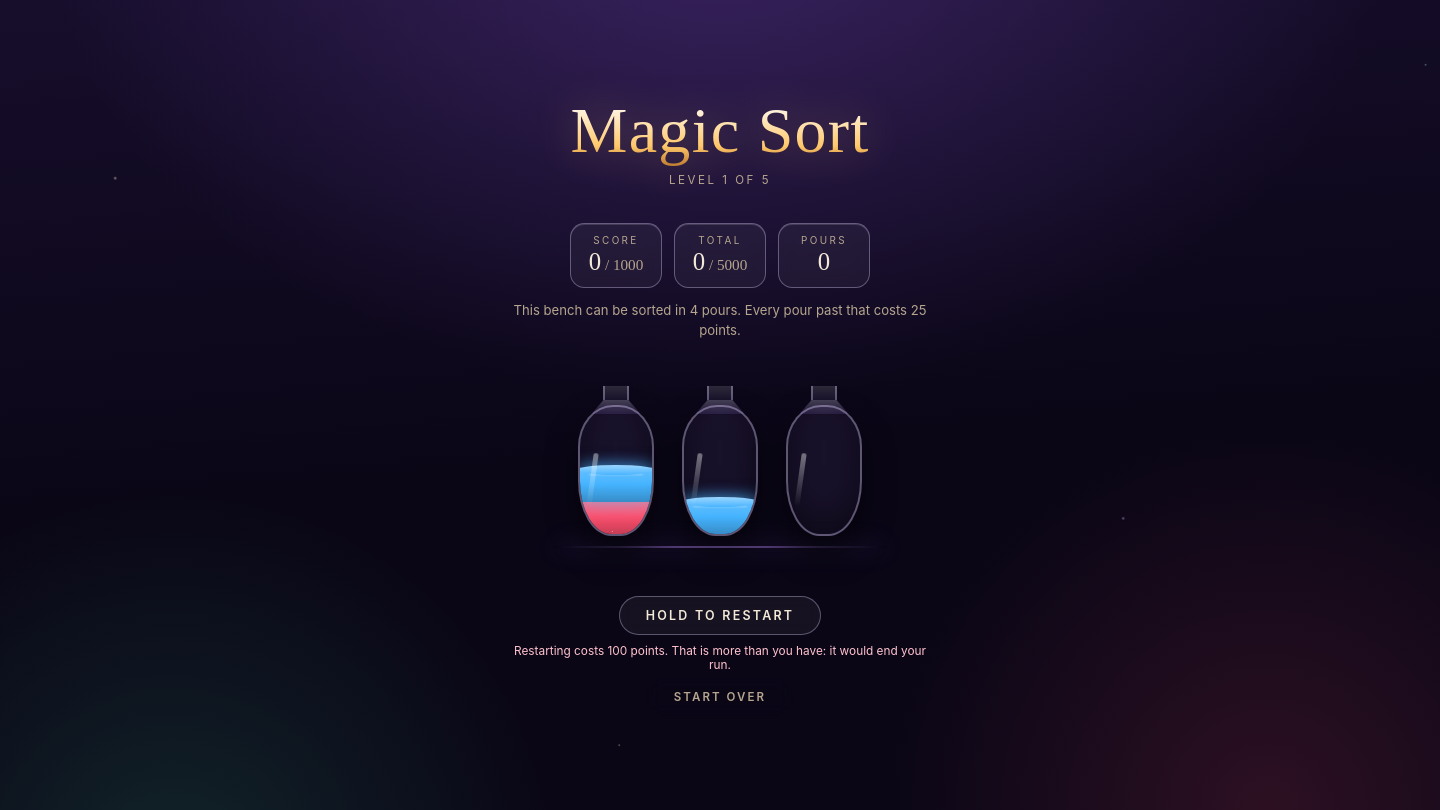
Test case: Game › ends the run of an apprentice who confirms a walk back they cannot pay for
Click the button "Start over".
click(720, 697)  # box top-left (647, 678), bottom-right (793, 716)
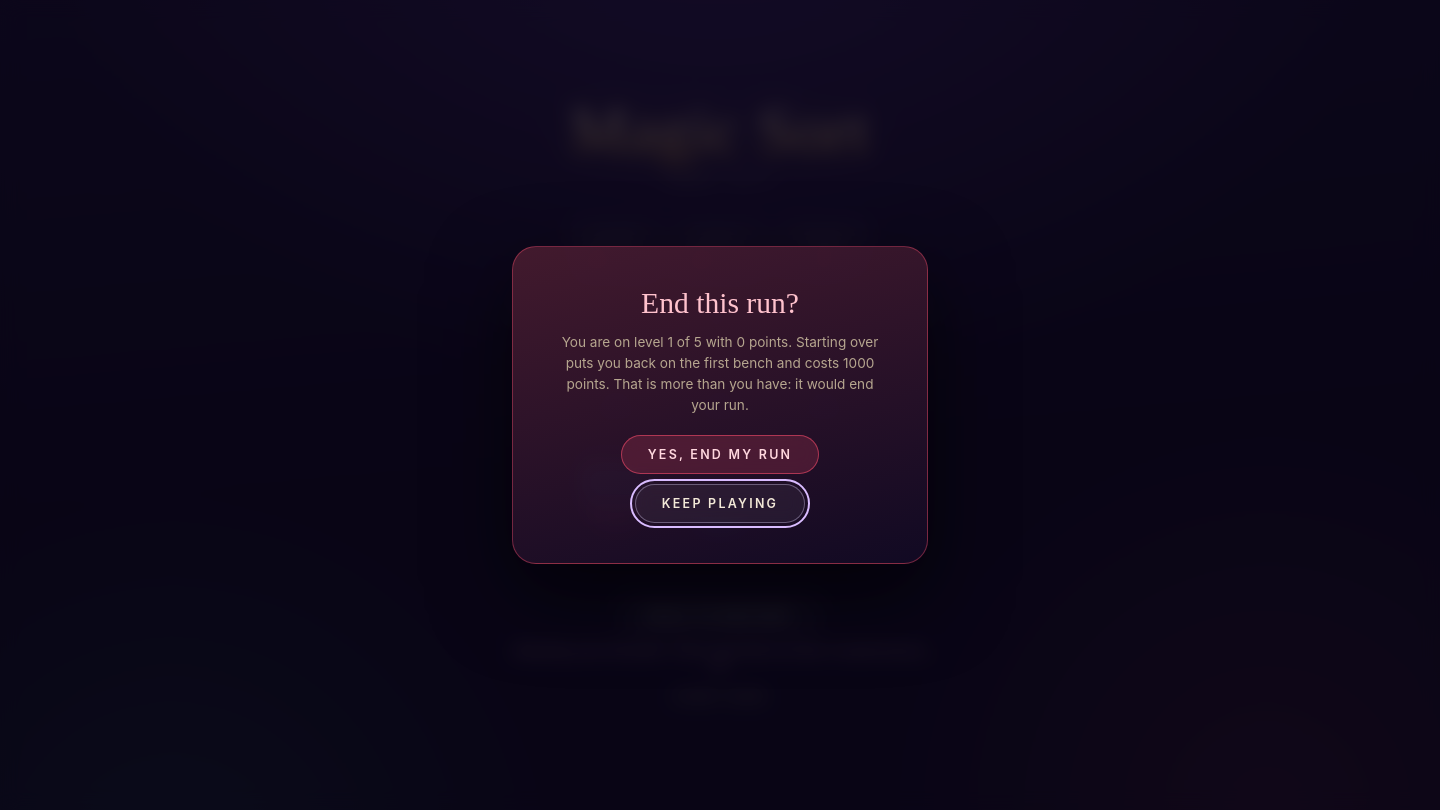
Click the button "Yes, end my run".
click(720, 454)  # box top-left (621, 435), bottom-right (819, 474)
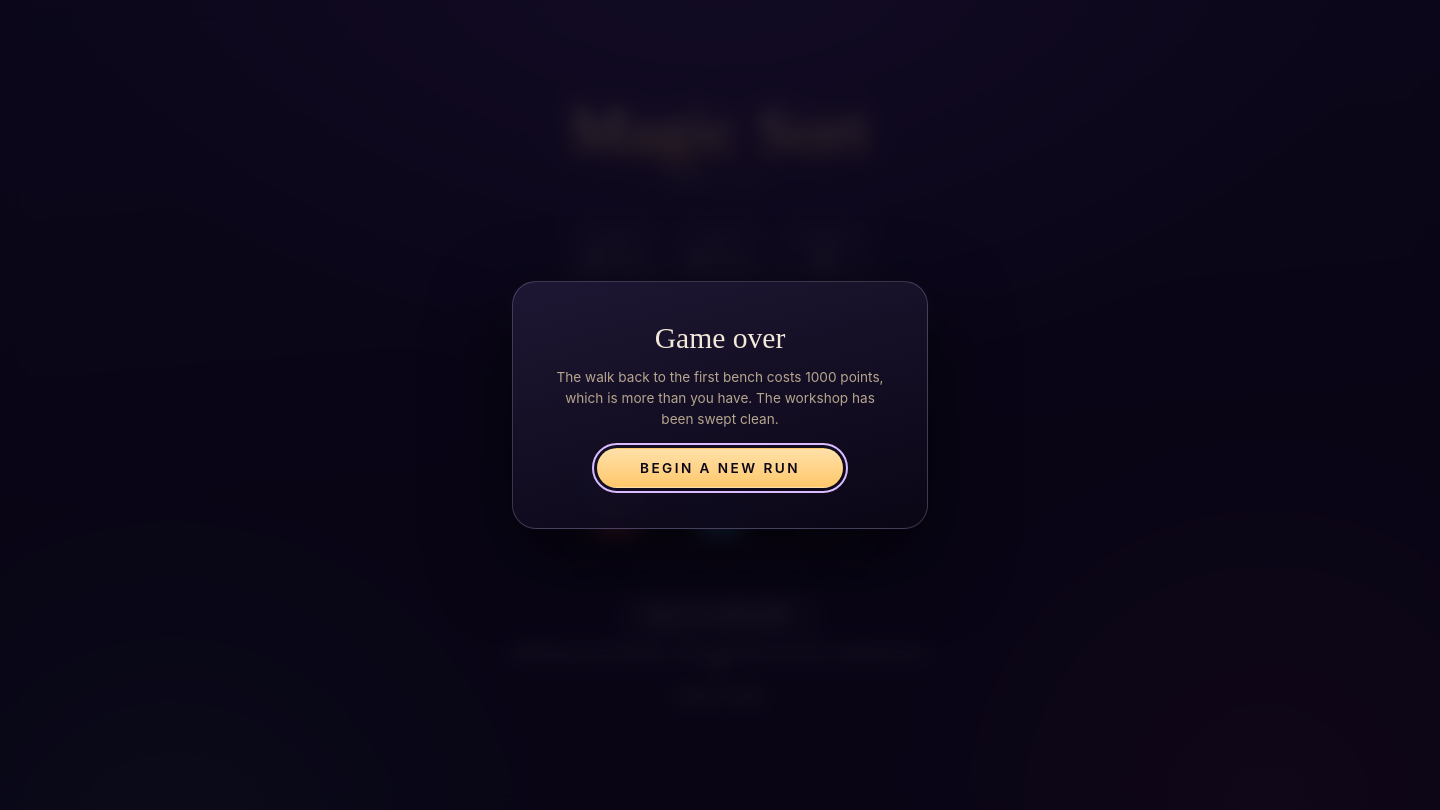
Check: the dialog "Game over" shows "The walk back to the first bench costs 1000 points, which is more than you have.", box top-left (556, 368), bottom-right (884, 406)
